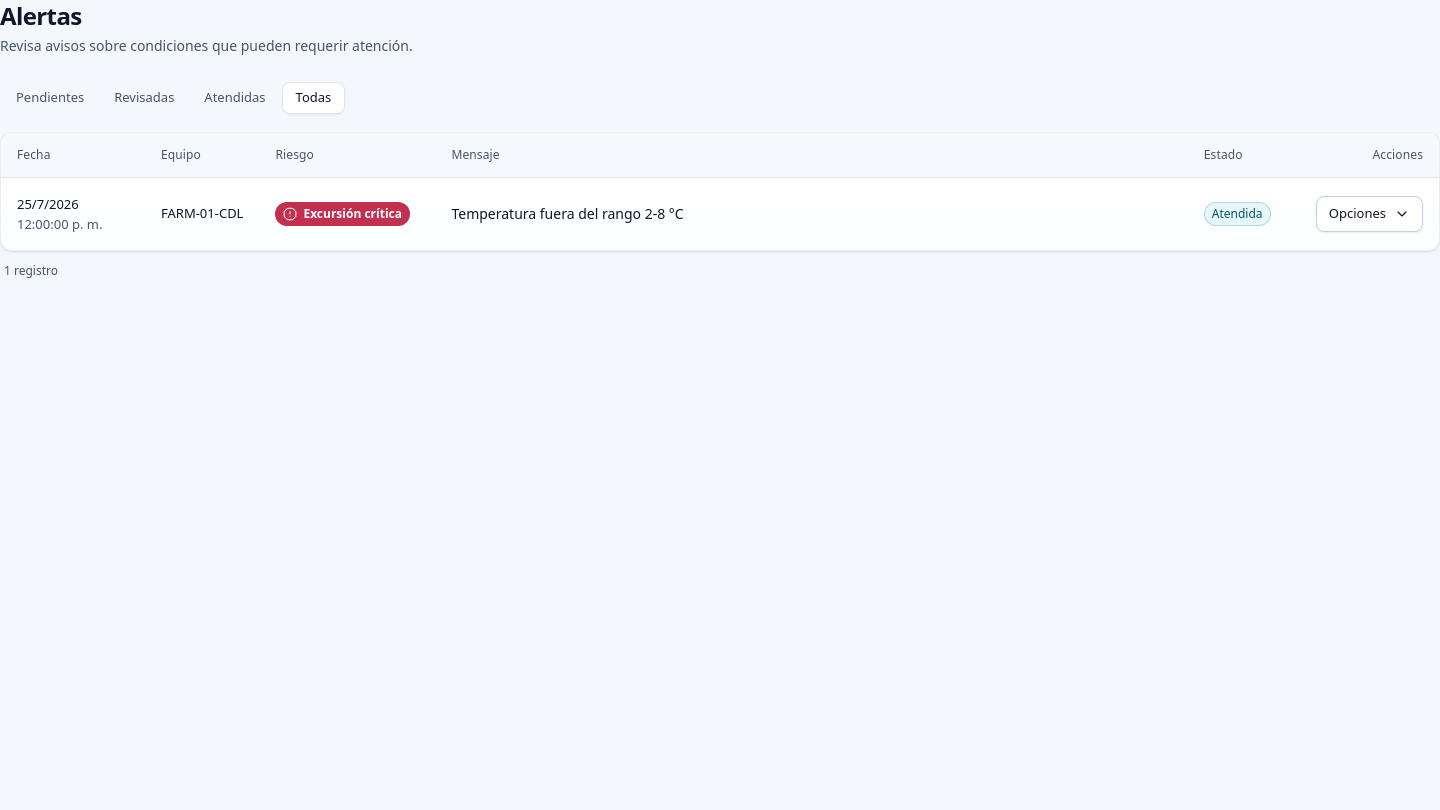
Test: AlertasPage — HU-28: rectificación trazable › un técnico solo puede rectificar sus propias acciones
This screenshot has width=1440, height=810.
What coordinates should you click on to do the following:
click the button "Opciones"
I would click on:
 (1369, 214)
Its box is [1316,196,1423,232].
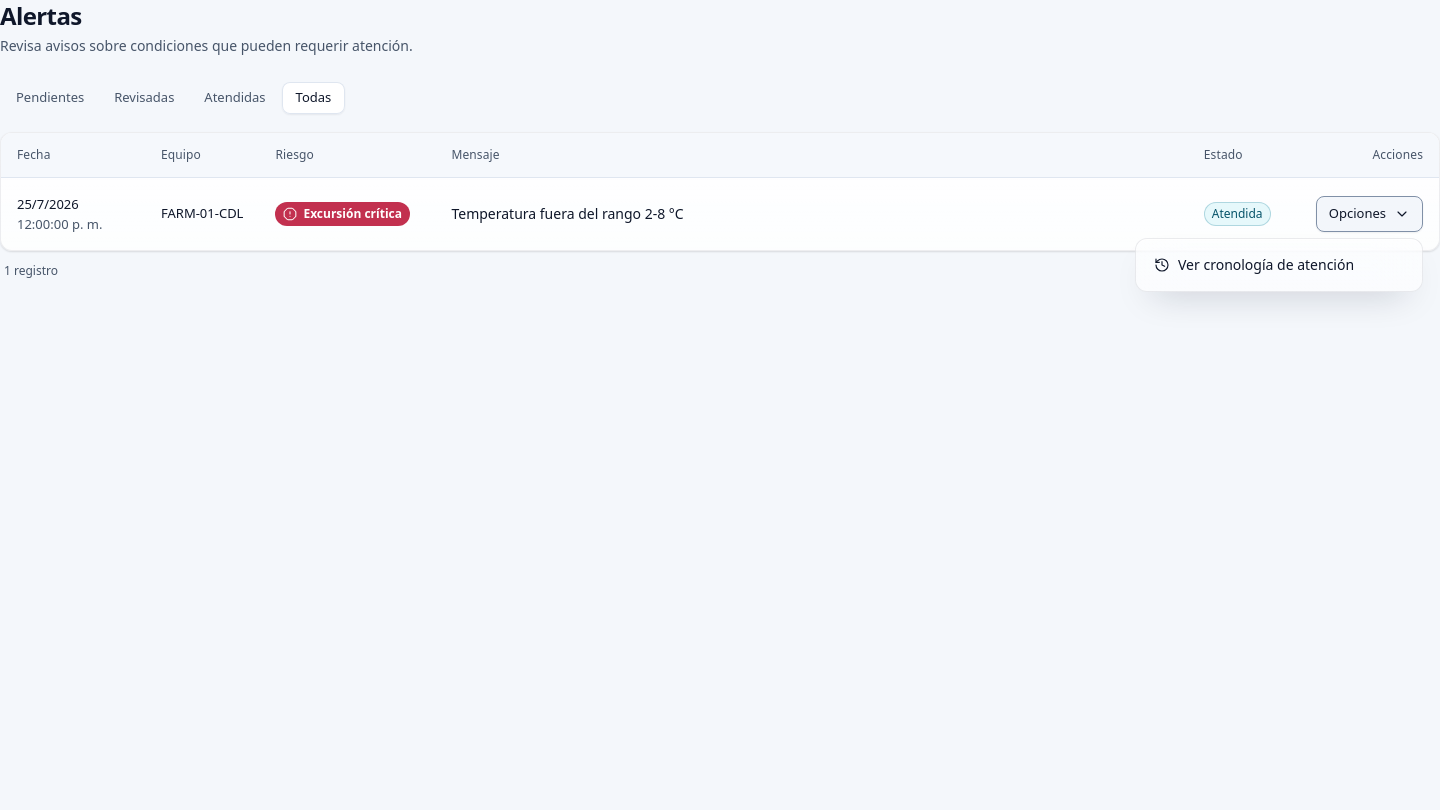
What coordinates should you click on to do the following:
click the menu item with aria-label "FARM-01-CDL"
I would click on:
 (1279, 265)
Its box is [1142,245,1416,285].
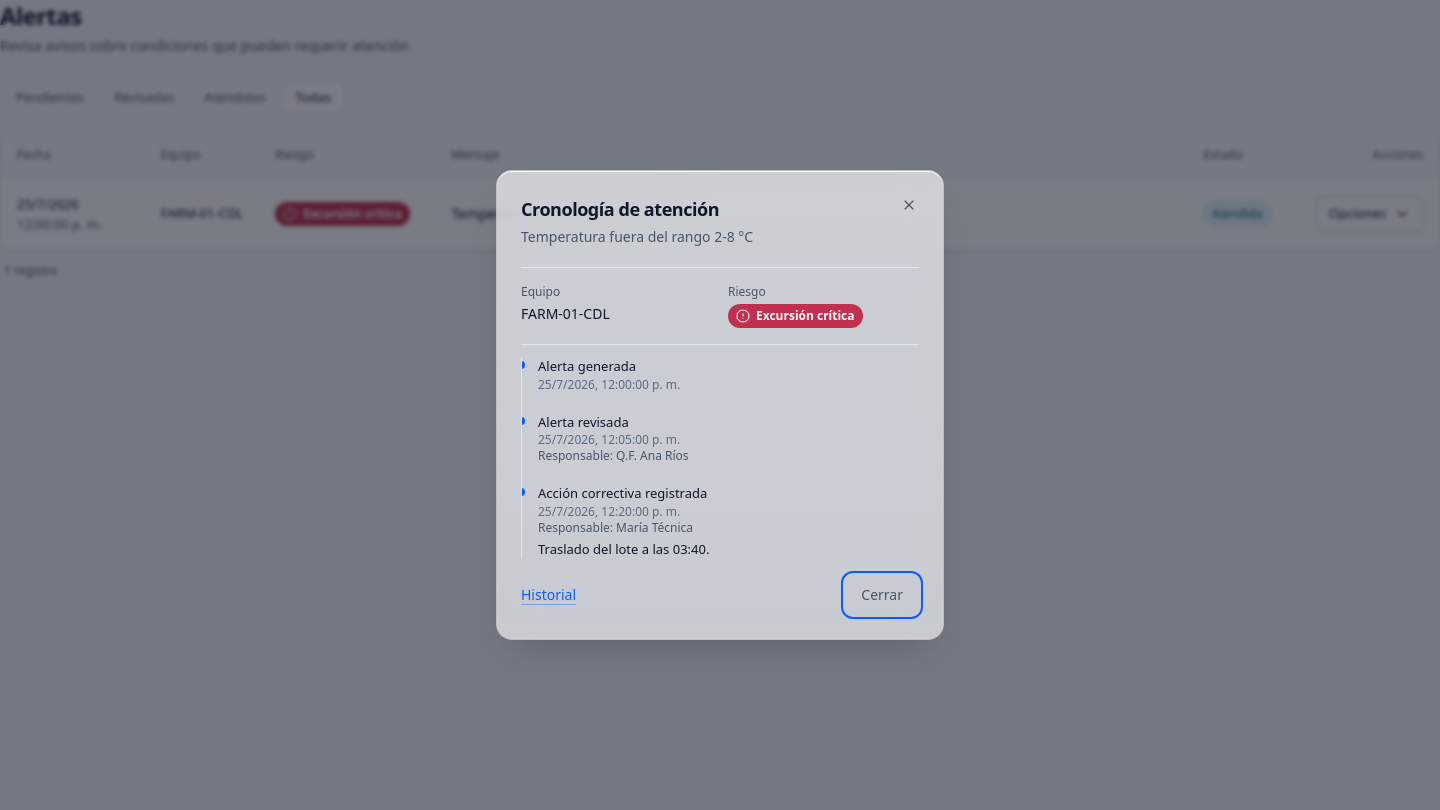
Expected: the text "Responsable: María Técnica" is shown, [538,518,693,536]
